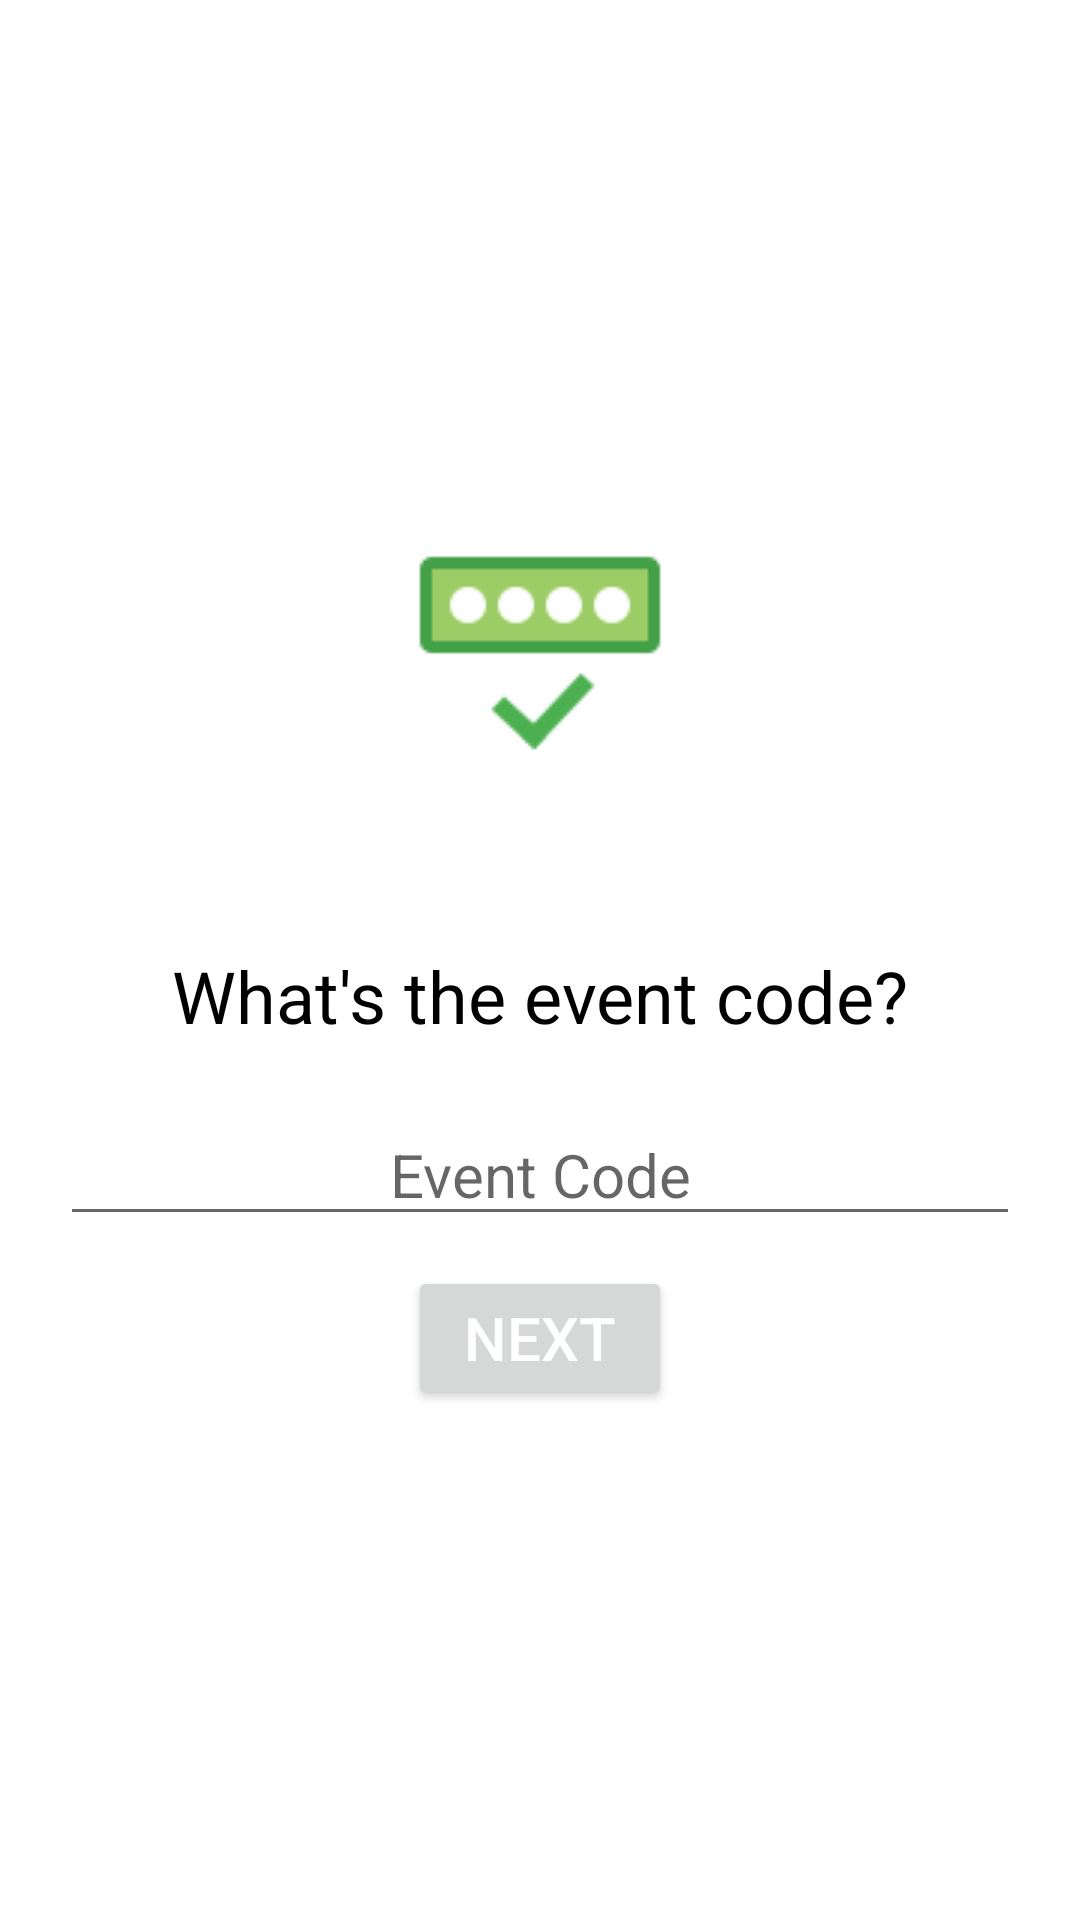

Icon bounding boxes for this 1080w x 1920h phone screenshot, format detection(x1, y1, x2, y2):
bigpincode: detection(419, 556, 661, 750)
